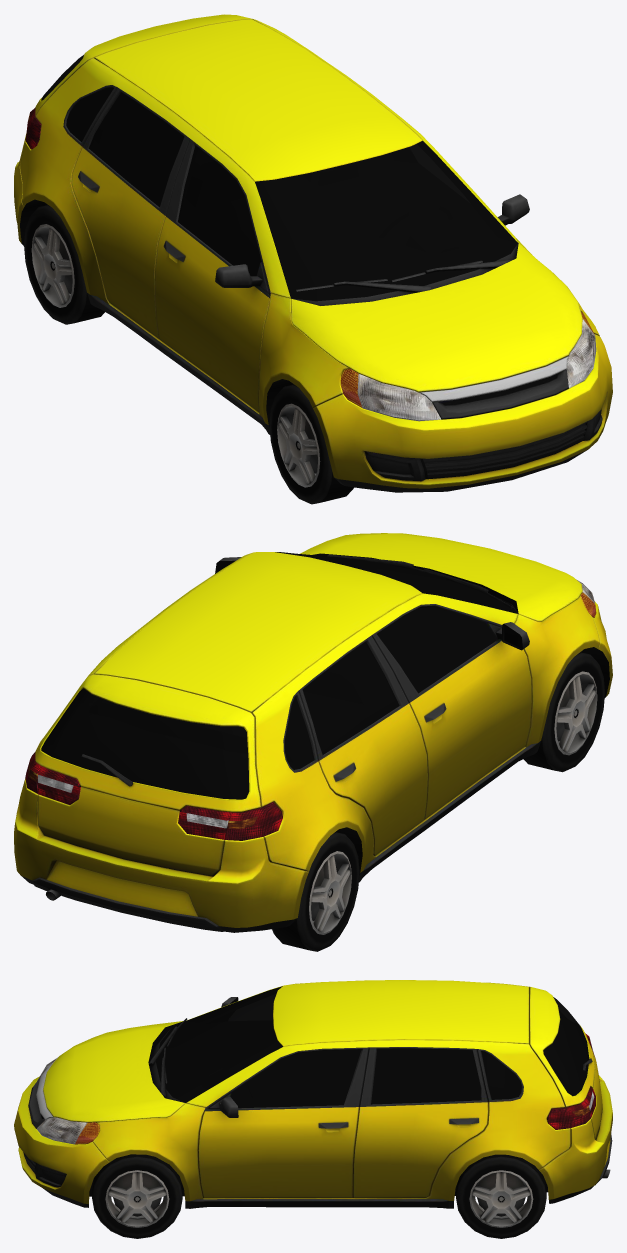
File: car_hatchback.glb
3 renders of one model, top to bottom at view 1: azimuth 30°, elevation 25°; view 2: azimuth 150°, elevation 25°; view 3: azimuth 270°, elevation 25°, orthographic. The views are drawn at different scales.
Parts seen in each view (by area): view 1: Hatchback Body_Body_0, Hatchback Body_Glass_0, Wheel_B002_Wheek_0, Wheel_B003_Wheek_0, Hatchback Body_Optics_0; view 2: Hatchback Body_Body_0, Hatchback Body_Glass_0, Wheel_B003_Wheek_0, Wheel_B002_Wheek_0, Hatchback Body_Optics_0; view 3: Hatchback Body_Body_0, Hatchback Body_Glass_0, Wheel_B_Wheek_0, Wheel_B001_Wheek_0, Hatchback Body_Optics_0.
Part boxes in pixels (x1,y1,x2,y2): Hatchback Body_Body_0: (14,14,612,492); Hatchback Body_Glass_0: (41,55,517,301); Wheel_B002_Wheek_0: (269,384,354,504); Wheel_B003_Wheek_0: (24,205,104,324); Hatchback Body_Optics_0: (25,108,596,421); Hatchback Body_Body_0: (14,533,612,932); Hatchback Body_Glass_0: (41,552,517,799); Wheel_B003_Wheek_0: (272,832,359,951); Wheel_B002_Wheek_0: (523,652,604,772); Hatchback Body_Optics_0: (25,580,596,840); Hatchback Body_Body_0: (14,980,612,1208); Hatchback Body_Glass_0: (156,986,589,1108); Wheel_B_Wheek_0: (92,1154,182,1238); Wheel_B001_Wheek_0: (456,1154,546,1238); Hatchback Body_Optics_0: (37,1033,595,1144).
Bounding box in the file's own units: 1.74 × 1.35 × 3.96.
Materials: 4 (3 with a texture image).
